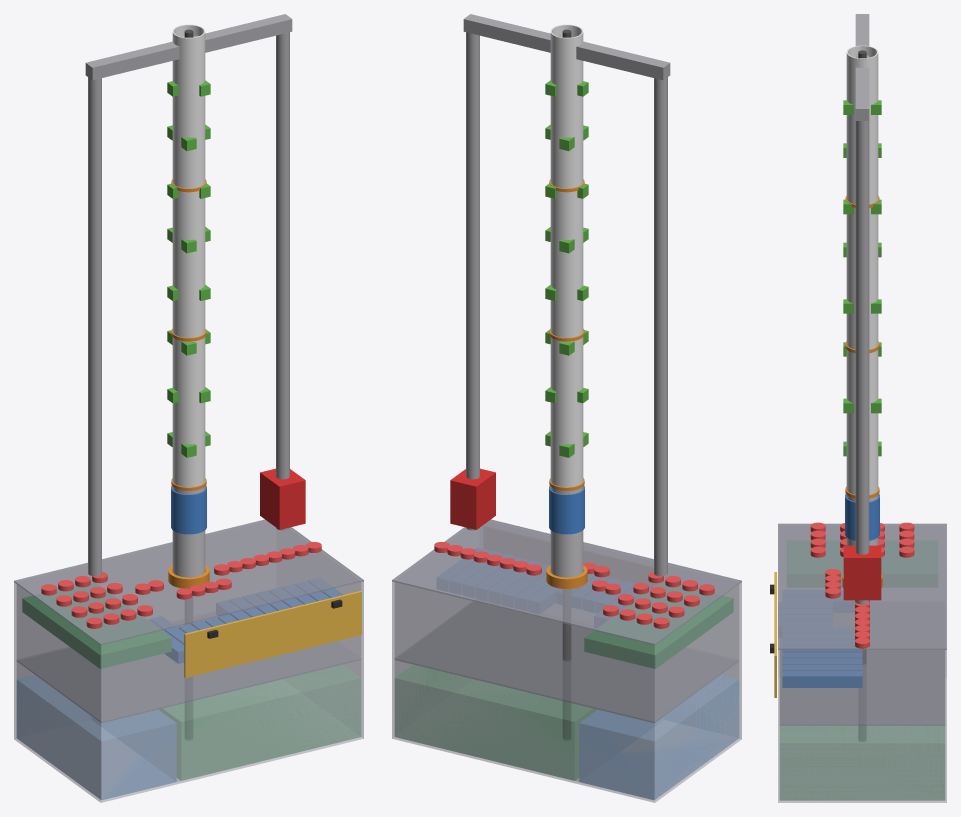
3 views of the same model, side by side, from view 1: azimuth 30°, elevation 25°; view 2: azimuth 150°, elevation 25°; view 3: azimuth 270°, elevation 25° (orthographic). The views are drawn at different scales.
Visible parts, largest first — view 1: tank, lid, dosed_water, growing_pipe, track_A_B, clean_water, shelf, front_flap, seedling_tray, membranes_on_collars, track_top, store_rows (+4 smaller); view 2: tank, shelf, lid, dosed_water, growing_pipe, track_A_B, clean_water, seedling_tray, store_rows, membranes_on_collars, track_top, pod_sites_24 (+4 smaller); view 3: tank, lid, dosed_water, shelf, growing_pipe, store_rows, track_A_B, seedling_tray, membranes_on_collars, cart, pod_sites_24, track_top (+2 smaller).
Part boxes in pixels (bbox=[...]): tank: bbox=[14, 553, 363, 802]; lid: bbox=[14, 519, 363, 645]; dosed_water: bbox=[159, 665, 360, 780]; growing_pipe: bbox=[172, 24, 205, 487]; track_A_B: bbox=[88, 32, 289, 576]; clean_water: bbox=[16, 675, 176, 799]; shelf: bbox=[17, 617, 360, 722]; front_flap: bbox=[184, 591, 361, 677]; seedling_tray: bbox=[22, 582, 171, 668]; membranes_on_collars: bbox=[41, 542, 321, 628]; track_top: bbox=[85, 14, 292, 80]; store_rows: bbox=[149, 578, 342, 663]; tank: bbox=[392, 568, 741, 802]; shelf: bbox=[395, 602, 738, 722]; lid: bbox=[392, 519, 741, 645]; dosed_water: bbox=[395, 665, 596, 780]; growing_pipe: bbox=[550, 24, 583, 487]; track_A_B: bbox=[466, 32, 667, 576]; clean_water: bbox=[579, 675, 739, 799]; seedling_tray: bbox=[584, 582, 733, 668]; store_rows: bbox=[437, 548, 641, 627]; membranes_on_collars: bbox=[434, 542, 714, 628]; track_top: bbox=[463, 14, 670, 80]; pod_sites_24: bbox=[545, 80, 588, 457]; tank: bbox=[778, 650, 946, 802]; lid: bbox=[778, 523, 946, 649]; dosed_water: bbox=[780, 726, 944, 800]; shelf: bbox=[780, 650, 944, 725]; growing_pipe: bbox=[846, 45, 878, 494]; store_rows: bbox=[780, 590, 862, 687]; track_A_B: bbox=[855, 121, 869, 604]; seedling_tray: bbox=[787, 541, 937, 586]; membranes_on_collars: bbox=[810, 522, 914, 648]; cart: bbox=[843, 545, 881, 600]; pod_sites_24: bbox=[843, 100, 881, 456]; track_top: bbox=[855, 14, 869, 120].
Size of the model in its own units: 700 by 1800 by 419.
